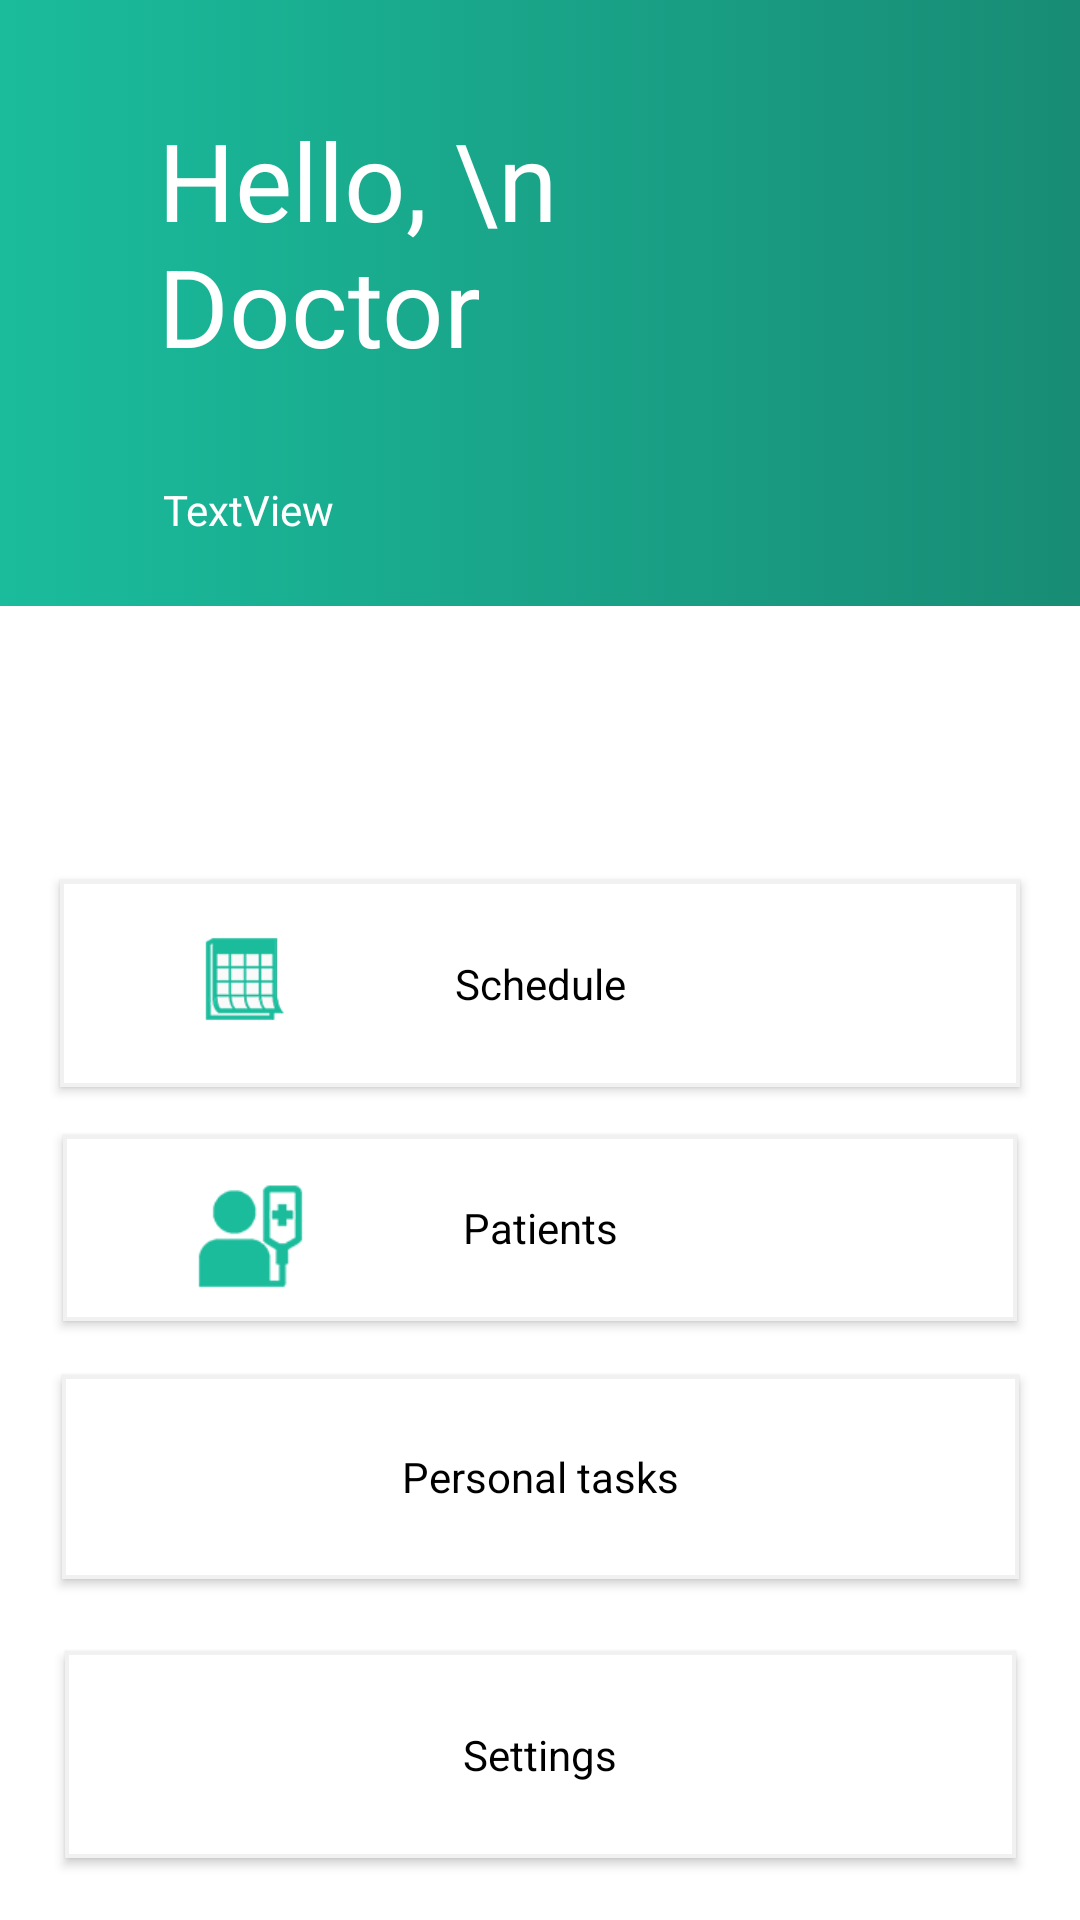

Icons on this 1080×1920 Android screen, each with the point to tap as point (x, y):
imgsdl: point (244, 979)
